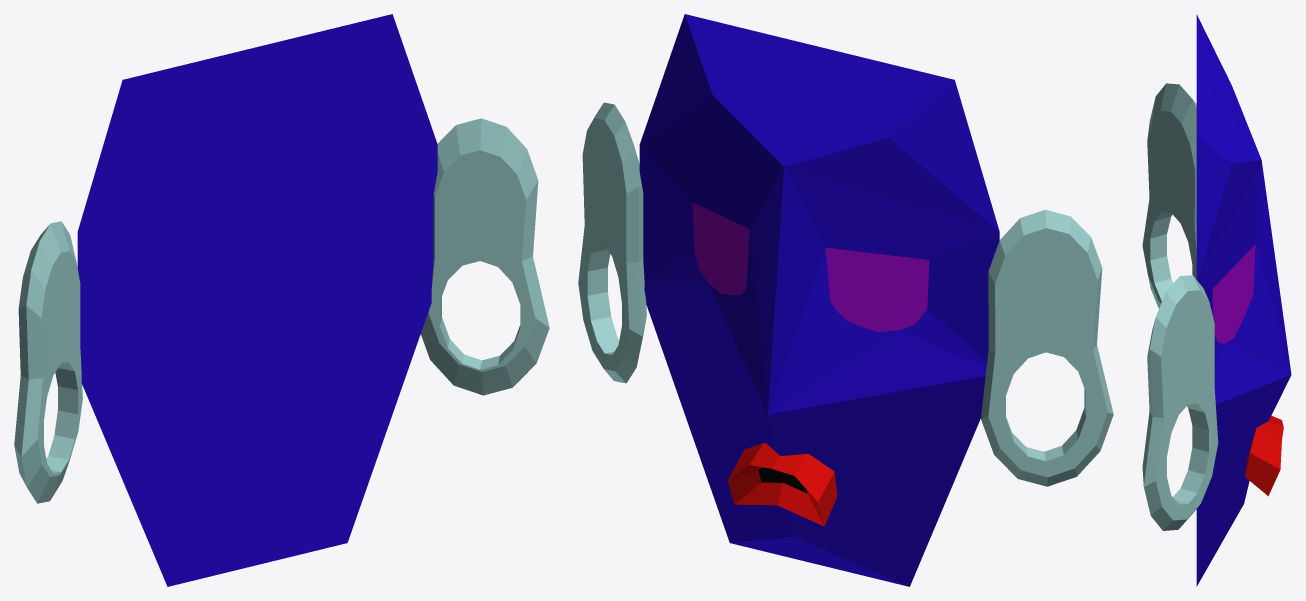
File: rain 1.fbx
3 views of the same model, side by side, from view 1: azimuth 30°, elevation 25°; view 2: azimuth 150°, elevation 25°; view 3: azimuth 270°, elevation 25° (orthographic). The views are drawn at different scales.
Visible parts, largest first — view 1: Cube, Circle; view 2: Cube, Circle, Cube.001, Suzanne; view 3: Cube, Circle, Cube.001, Suzanne.
Part boxes in pixels (<box>): Cube: <box>77,14,437,586</box>; Circle: <box>14,118,549,503</box>; Cube: <box>639,14,999,586</box>; Circle: <box>578,102,1113,486</box>; Cube.001: <box>692,202,929,331</box>; Suzanne: <box>728,443,837,526</box>; Cube: <box>1196,14,1291,586</box>; Circle: <box>1142,83,1218,530</box>; Cube.001: <box>1212,244,1255,343</box>; Suzanne: <box>1245,415,1283,496</box>.
Size of the model in its own units: 279 by 261 by 74.63.
